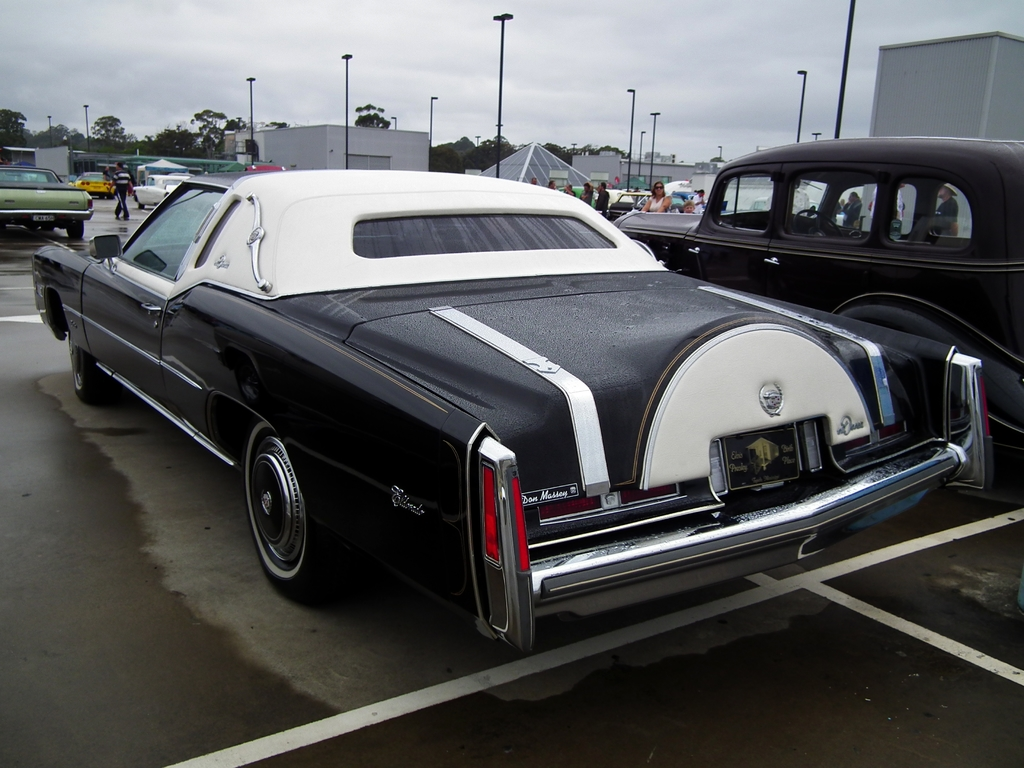Car: (42, 163, 982, 659), (607, 133, 1023, 471), (0, 163, 96, 240), (602, 192, 683, 220), (129, 174, 192, 209), (748, 197, 817, 220), (68, 171, 114, 197), (554, 185, 594, 209), (604, 186, 631, 204)
